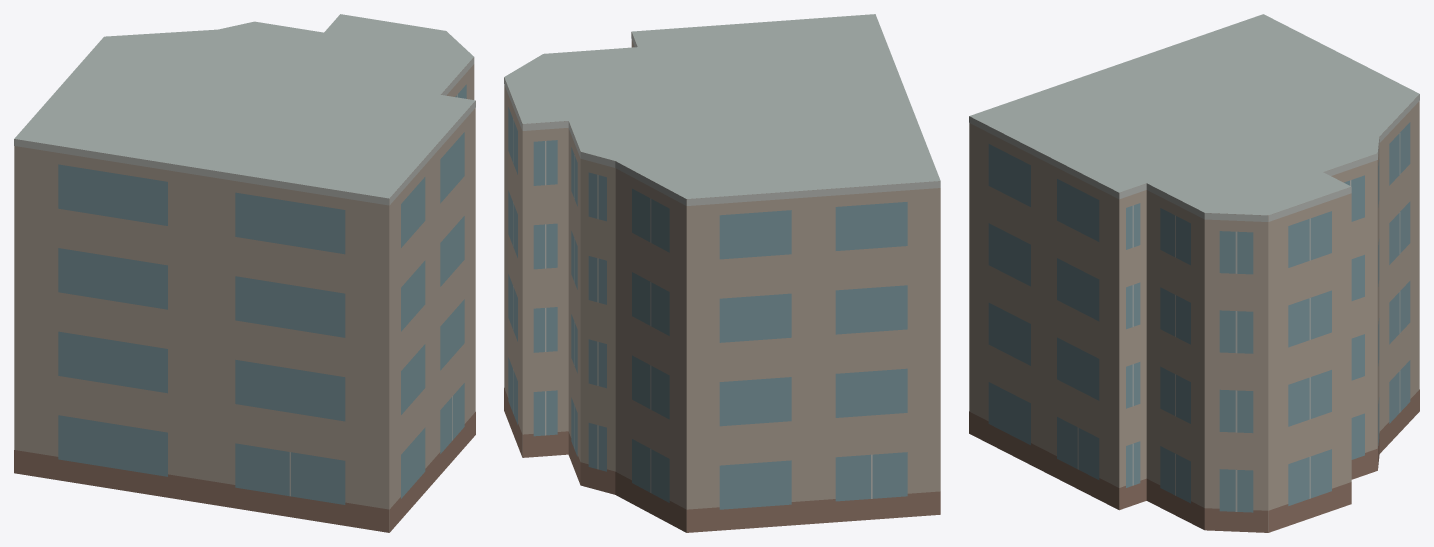
The model's file is survey-upis-32772241.glb.
The picture shows the model from 3 angles, left to right: view 1: azimuth 30°, elevation 25°; view 2: azimuth 150°, elevation 25°; view 3: azimuth 270°, elevation 25°; orthographic projection. The views are drawn at different scales.
Visible parts, largest first — view 1: survey-upis-32772241.tmp; view 2: survey-upis-32772241.tmp; view 3: survey-upis-32772241.tmp.
Part boxes in pixels (x1,y1,x2,y2): survey-upis-32772241.tmp: (14,14,475,532); survey-upis-32772241.tmp: (504,14,940,532); survey-upis-32772241.tmp: (969,14,1419,532).
Size of the model in its own units: 15.79 by 11.6 by 14.93.
